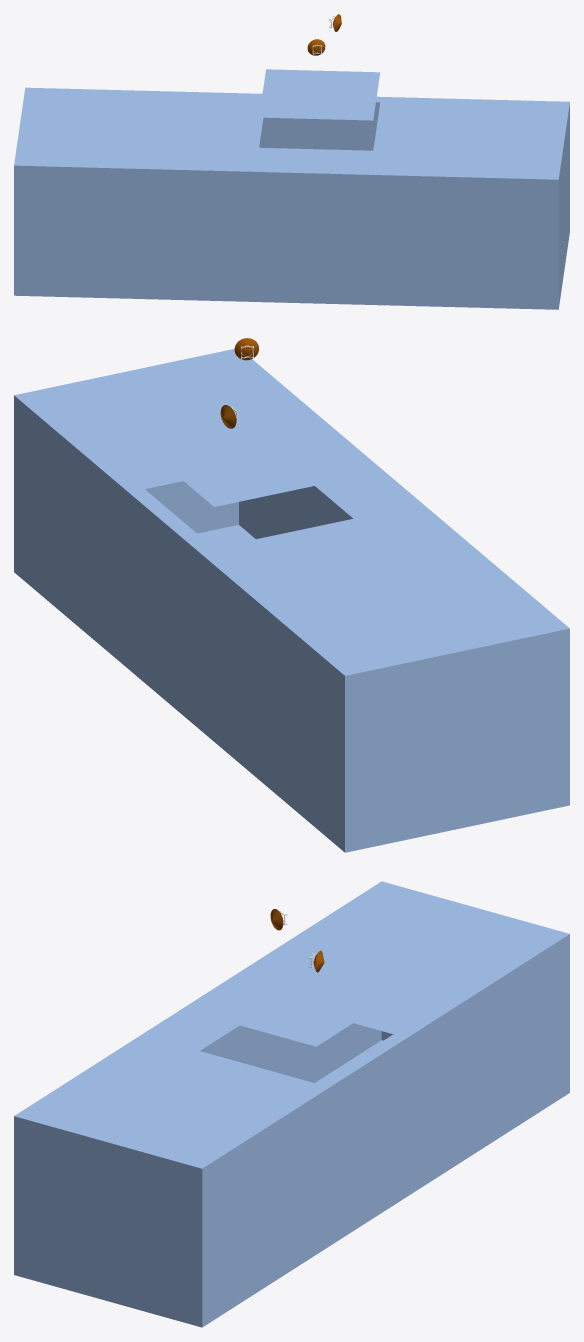
File: ang名護.glb
3 renders of one model, top to bottom at view 1: azimuth 30°, elevation 25°; view 2: azimuth 150°, elevation 25°; view 3: azimuth 270°, elevation 25°, orthographic. The views are drawn at different scales.
Parts seen in each view (by area): view 1: group_32, group_32.001; view 2: group_32, group_32.001; view 3: group_32, group_32.001.
Part boxes in pixels (bbox=[...]): group_32: bbox=[14, 87, 569, 309]; group_32.001: bbox=[259, 69, 380, 120]; group_32: bbox=[14, 349, 569, 852]; group_32.001: bbox=[145, 419, 352, 506]; group_32: bbox=[14, 881, 569, 1327]; group_32.001: bbox=[200, 965, 392, 1046].
Bounding box in the file's own units: 63.29 × 30.57 × 51.73.
